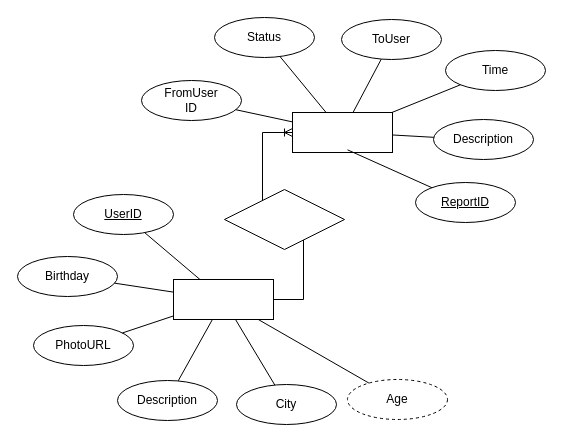
Image size: 563x442. Some labels were removed from this diagram. The shapes that lost their labels are listed below. From the top down, each one's centre as x and y in pixels, then its label:
At (x=342, y=132): "Reports".
At (x=284, y=219): "Makes".
At (x=223, y=299): "User".
